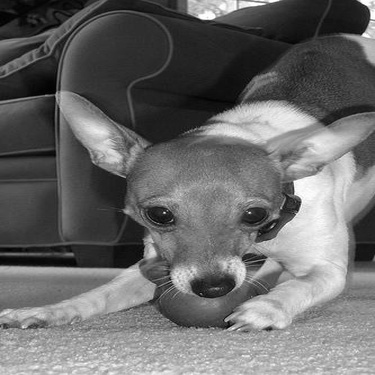dog: (2, 19, 374, 341)
